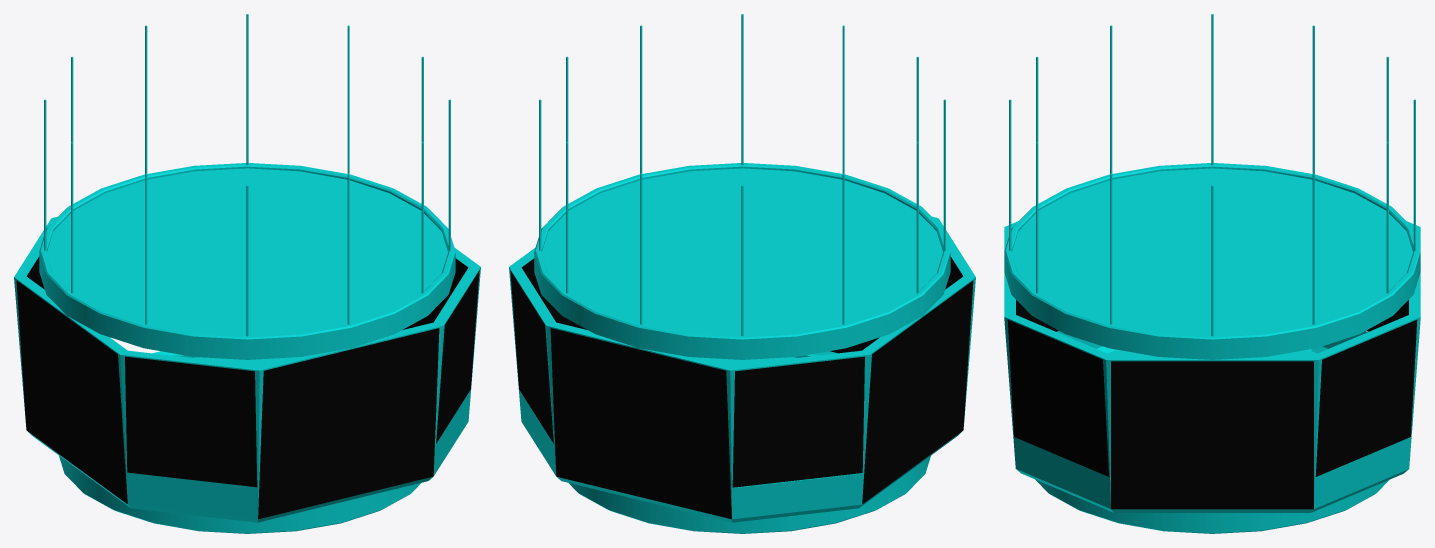
The model's file is Scoreboard.fbx.
3 renders of one model, left to right at view 1: azimuth 30°, elevation 25°; view 2: azimuth 150°, elevation 25°; view 3: azimuth 270°, elevation 25°, orthographic.
Visible parts, largest first — view 1: Scoreboard; view 2: Scoreboard; view 3: Scoreboard.
Boxes of the visible parts, x1,y1,x2,y2 form: Scoreboard: (14,14,480,533); Scoreboard: (509,14,975,533); Scoreboard: (1004,14,1420,533).
Bounding box in the file's own units: 1458 × 1398 × 1458.
